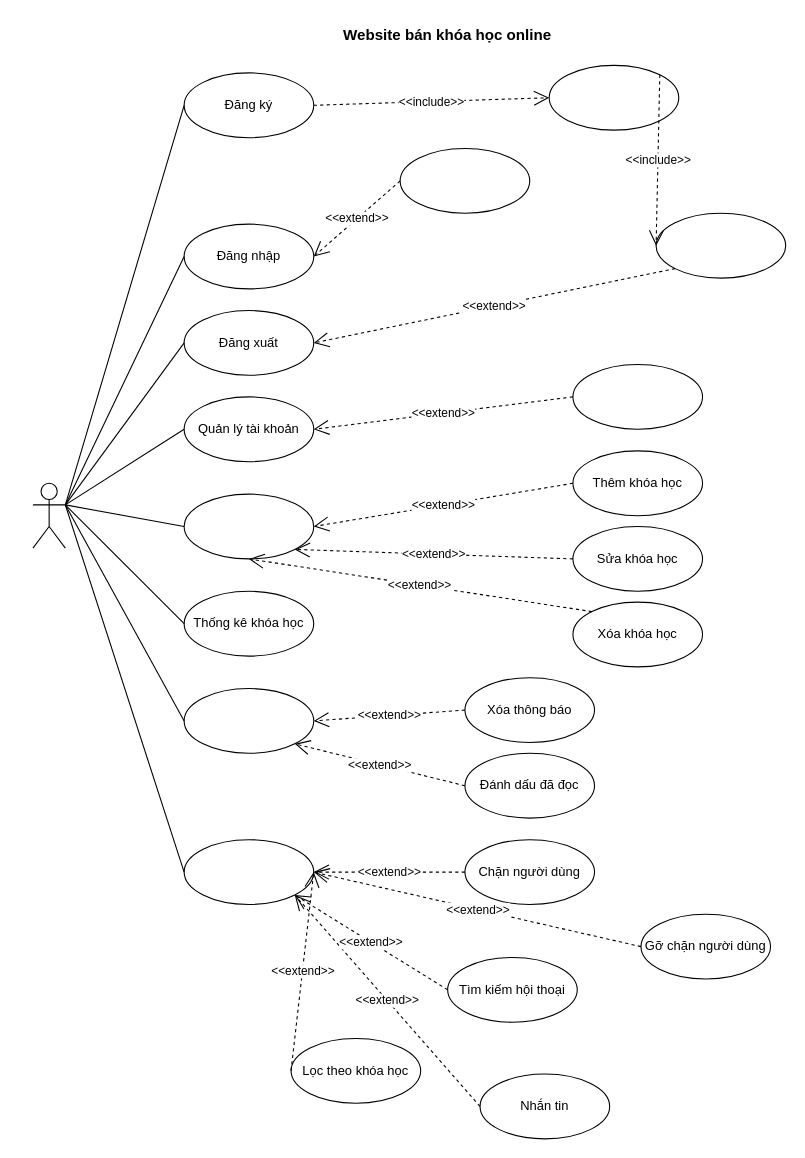
Image size: 805x1158. Some labels were removed from this diagram. The centre of each missing label's shape, as x and y in pixels:
"Người bán" belongs at point 48,515.
"Quên mật khẩu" belongs at point 464,180.
"Quản lý khóa học" belongs at point 248,526.
"Quản lý tin nhắn" belongs at point 248,872.
"Xem thông báo" belongs at point 248,720.
"Xác thực email" belongs at point 613,97.
"Đổi mật khẩu" belongs at point 720,245.
"Đổi tên người dùng" belongs at point 637,396.
